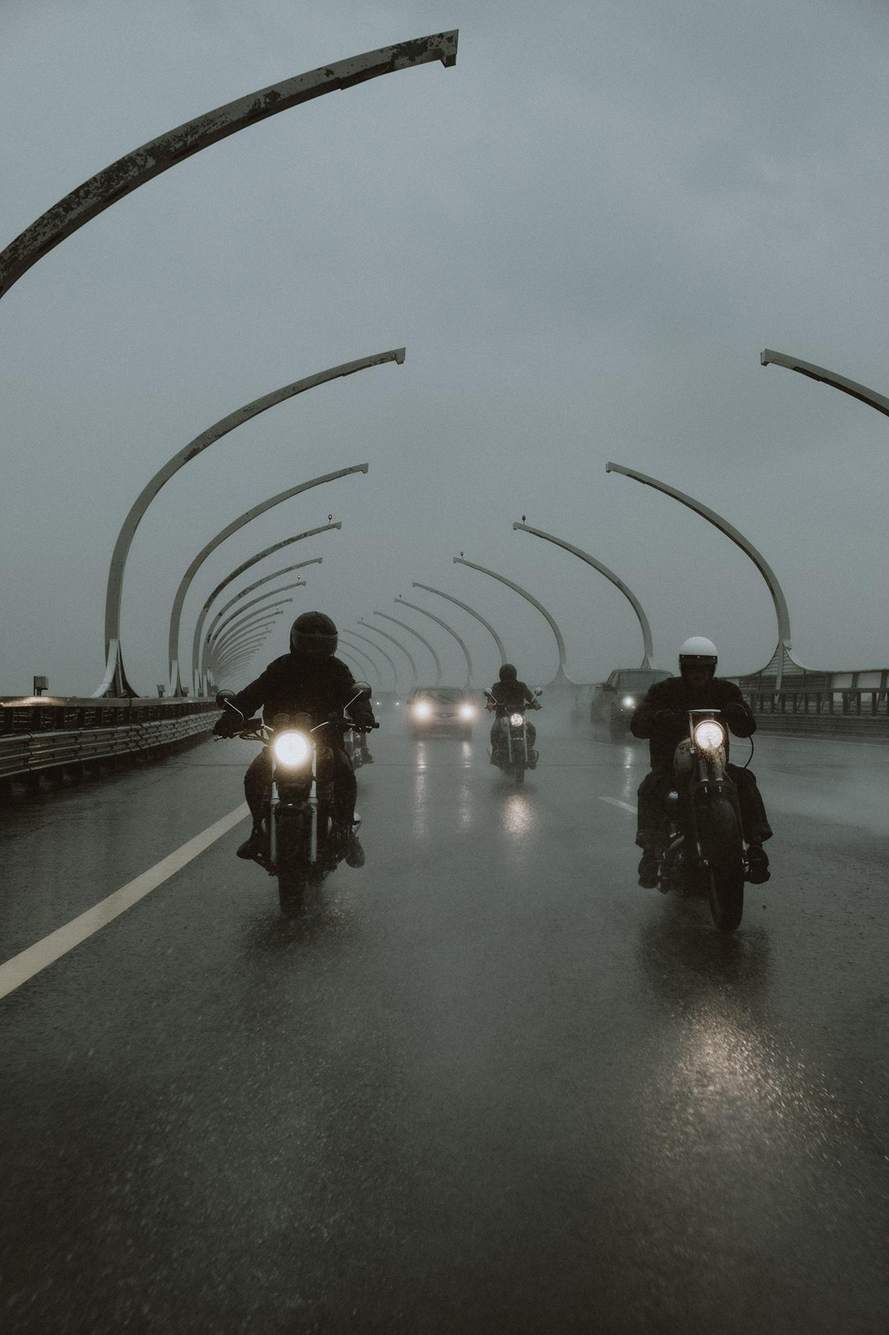helmet: (289, 610, 339, 672), (677, 634, 719, 694)
